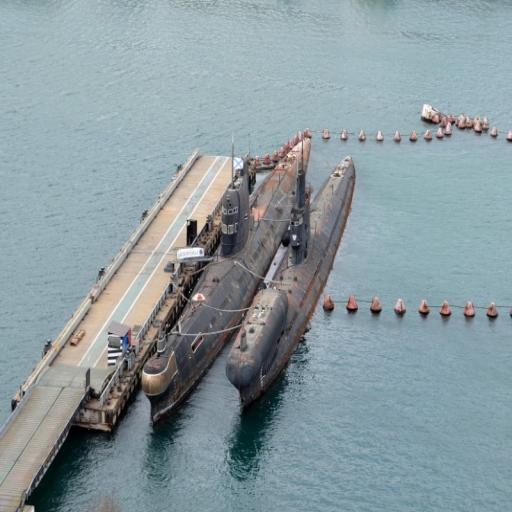submarine: (154, 131, 313, 421), (227, 156, 359, 408)
